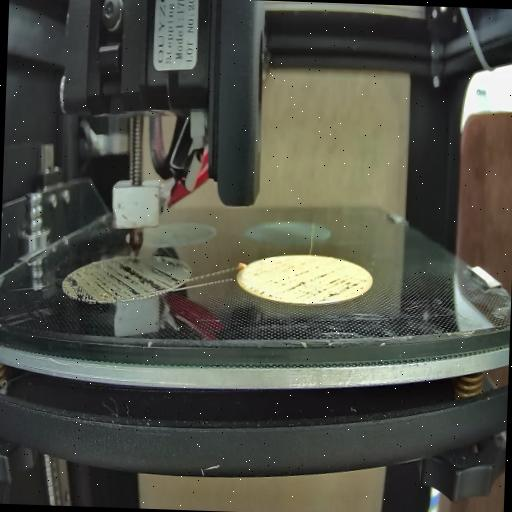under_extrusion: (60, 260, 180, 299), (278, 270, 370, 304), (248, 280, 274, 303)
